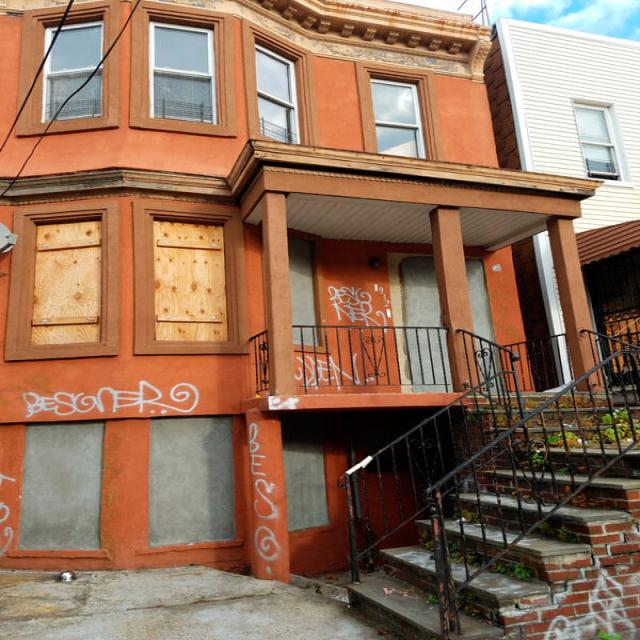House: (0, 0, 545, 640), (498, 6, 640, 371)
